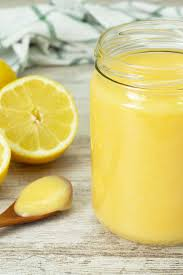lemon: (1, 74, 82, 164)
